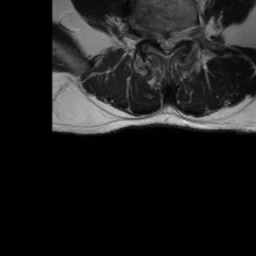CCS_normal: (162, 27, 169, 58)
LFS_normal: (176, 22, 184, 50)
LLS_normal: (169, 27, 176, 53)
RFS_normal: (147, 19, 155, 46)
RLS_normal: (155, 23, 162, 52)
